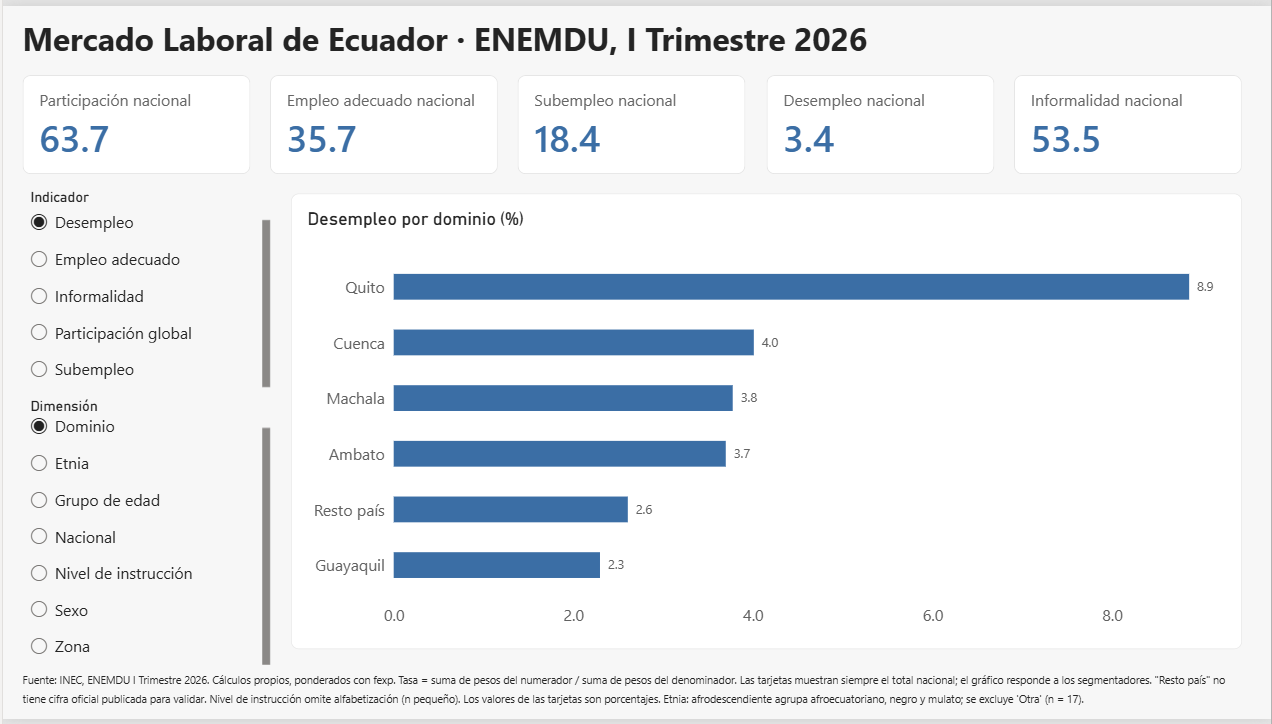

Layout of this report page (visuals, bound fields, positions):
{"tool":"powerbi","page":{"name":"Page 1","canvas":[1280,720],"ordinal":0},"visuals":[{"type":"cardVisual","fields":{"Data":["indicadores.Informalidad nacional"]},"box":[1020,70,230,100],"z":0},{"type":"cardVisual","fields":{"Data":["indicadores.Subempleo nacional"]},"box":[520,70,230,100],"z":1000},{"type":"cardVisual","fields":{"Data":["indicadores.Empleo adecuado nacional"]},"box":[270,70,230,100],"z":2000},{"type":"cardVisual","fields":{"Data":["indicadores.Participación nacional"]},"box":[20,70,230,100],"z":3000},{"type":"cardVisual","fields":{"Data":["indicadores.Desempleo nacional"]},"box":[770,70,230,100],"z":4000},{"type":"slicer","fields":{"Values":["indicadores.indicador"]},"box":[20,185,250,200],"z":4001},{"type":"slicer","fields":{"Values":["indicadores.dimension"]},"box":[20,395,250,270],"z":4002},{"type":"clusteredBarChart","fields":{"Category":["indicadores.categoria"],"Y":["indicadores.Tasa"]},"box":[290,190,960,460],"z":4003},{"type":"textbox","box":[20,10,1240,50],"z":4004},{"type":"textbox","box":[20,670,1240,40],"z":4005}]}

Visuals, with their boxes in screenshot pixels (x1, y1, x2, y2), scaled from the page's 1280x720 canvas onto the 1272x724 screenshot:
cardVisual - indicadores.Informalidad nacional: locate(1014, 70, 1242, 171)
cardVisual - indicadores.Subempleo nacional: locate(517, 70, 745, 171)
cardVisual - indicadores.Empleo adecuado nacional: locate(268, 70, 497, 171)
cardVisual - indicadores.Participación nacional: locate(20, 70, 248, 171)
cardVisual - indicadores.Desempleo nacional: locate(765, 70, 994, 171)
slicer - indicadores.indicador: locate(20, 186, 268, 387)
slicer - indicadores.dimension: locate(20, 397, 268, 669)
clusteredBarChart - indicadores.categoria x indicadores.Tasa: locate(288, 191, 1242, 654)
textbox: locate(20, 10, 1252, 60)
textbox: locate(20, 674, 1252, 714)
